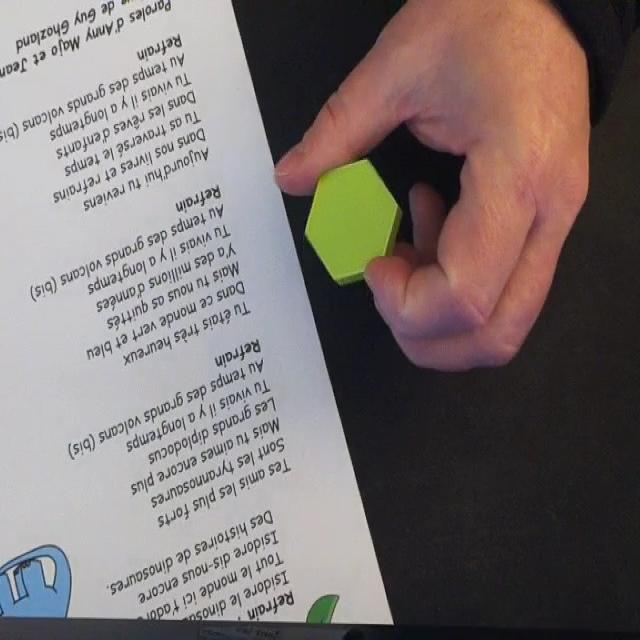hexagon: (304, 155, 400, 284)
